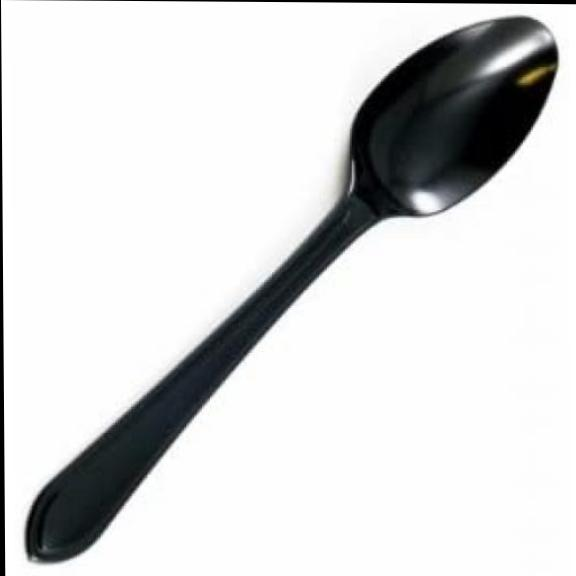Plastik: (27, 18, 555, 561)
